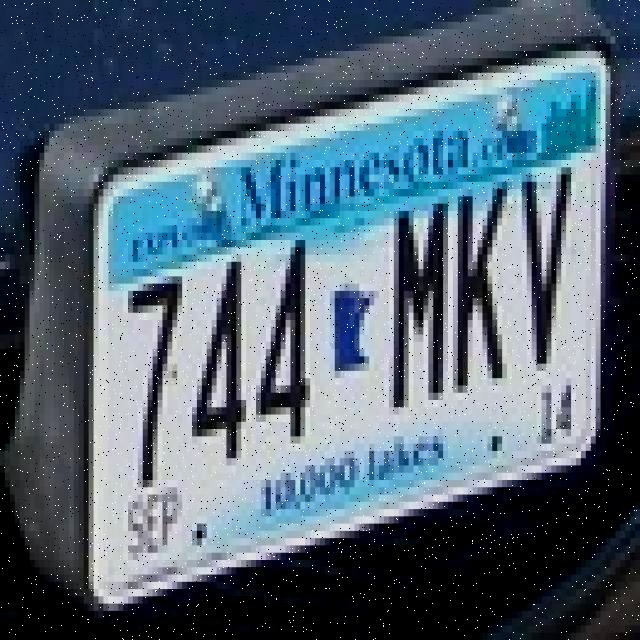licenseplate: (49, 6, 620, 582)
